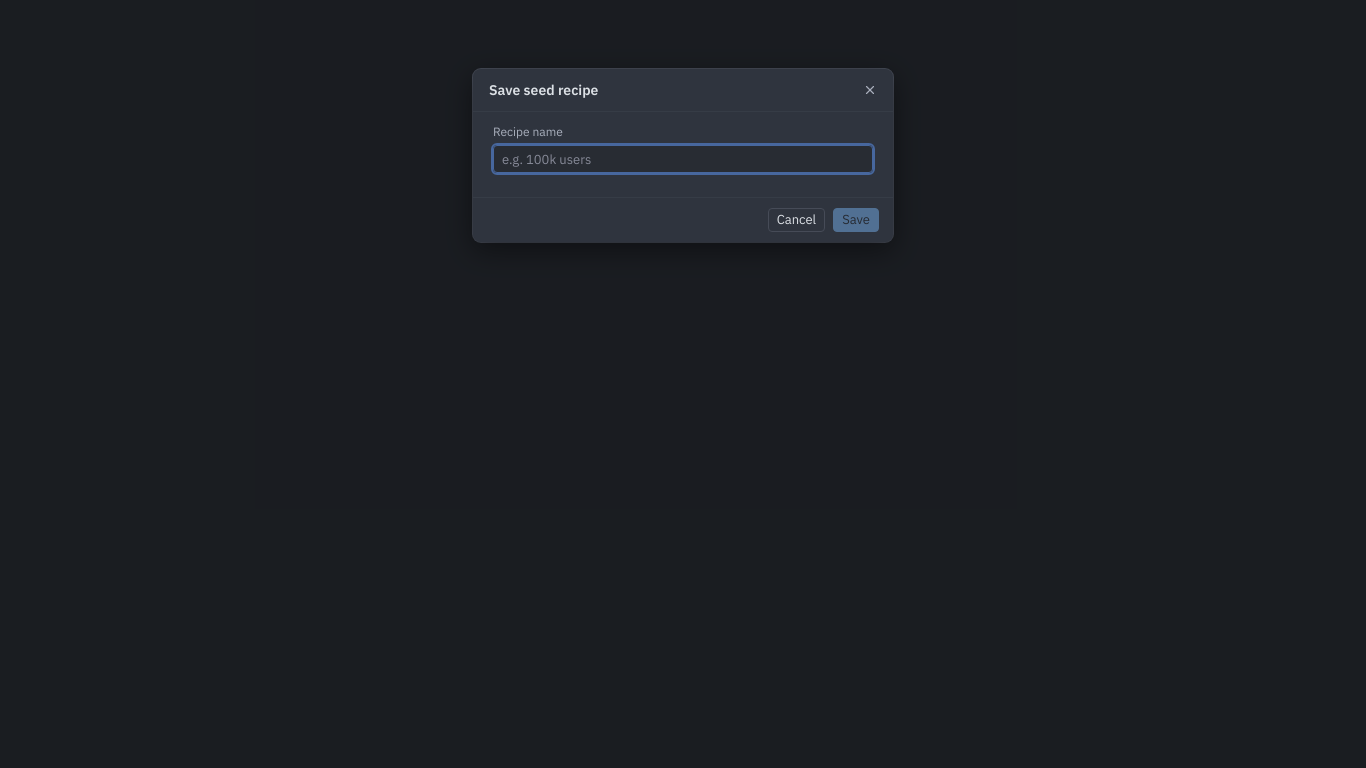
Scenario: SeedSaveProfileDialog › shows other failures
Type "x" into the field labelled "Recipe name".
click(683, 159); type("x")  # box top-left (493, 145), bottom-right (873, 173)
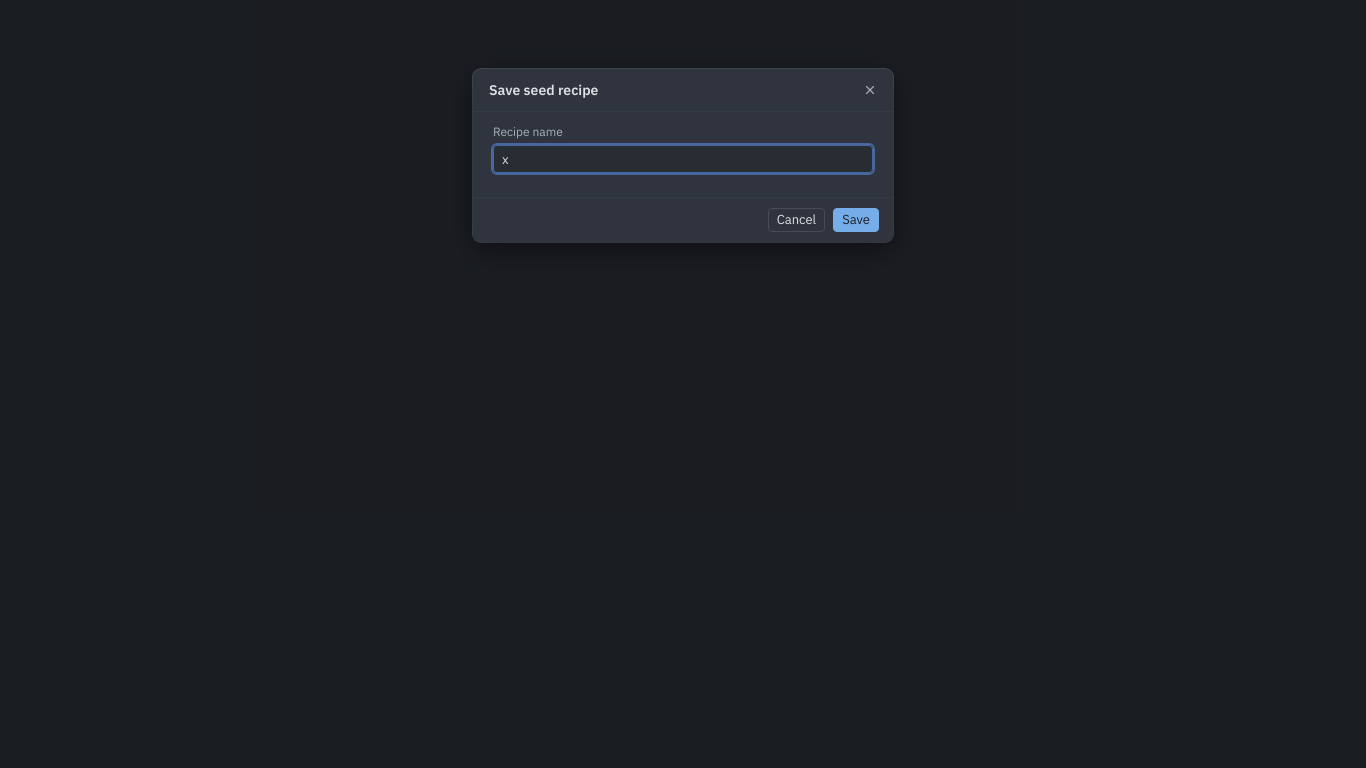
Click the button "Save".
click(856, 220)  # box top-left (833, 208), bottom-right (879, 232)
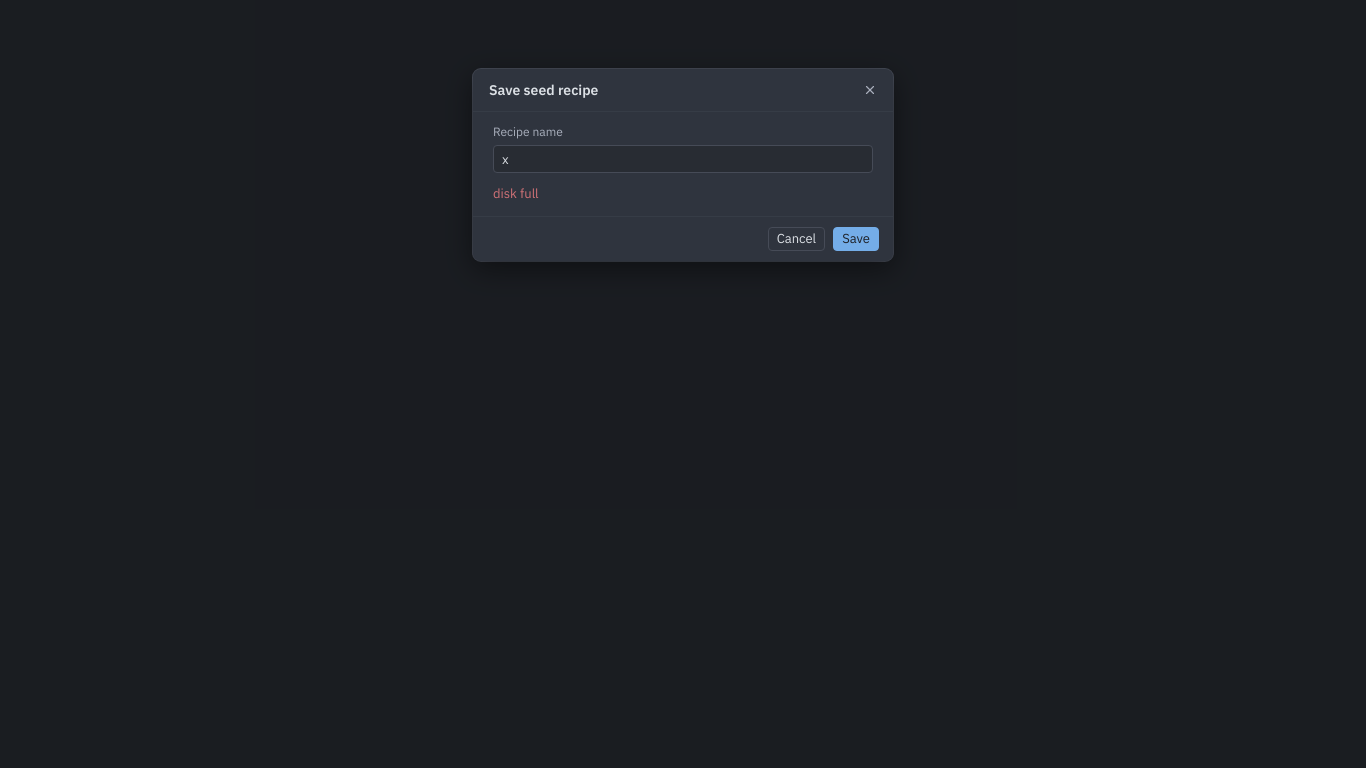
Now the message reads "disk full", box top-left (493, 185), bottom-right (539, 202)
